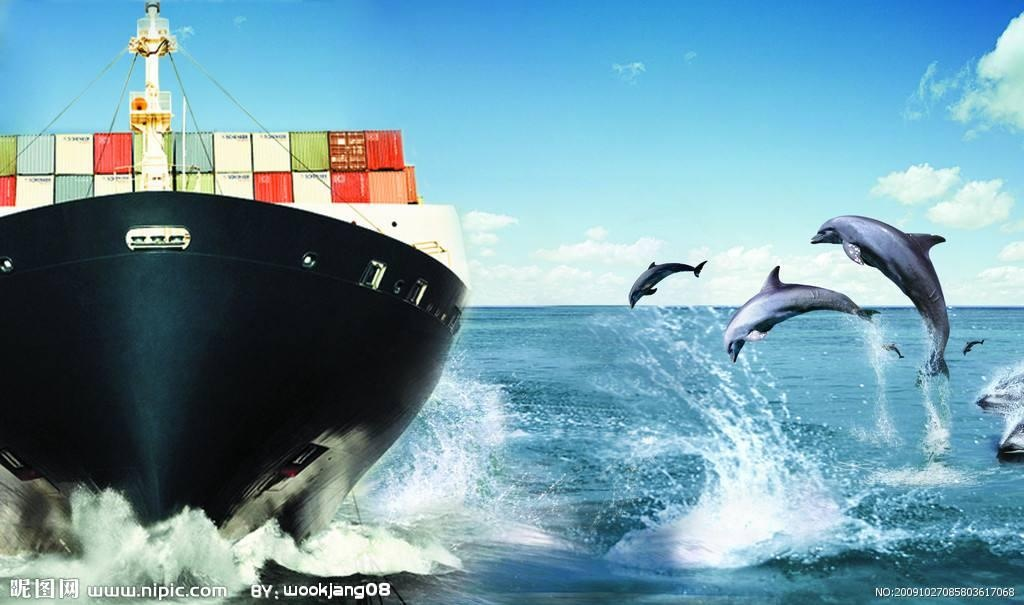Cargoship: (1, 1, 473, 557)
fish: (806, 207, 963, 379), (723, 266, 892, 368), (623, 253, 712, 312), (961, 334, 989, 357)
